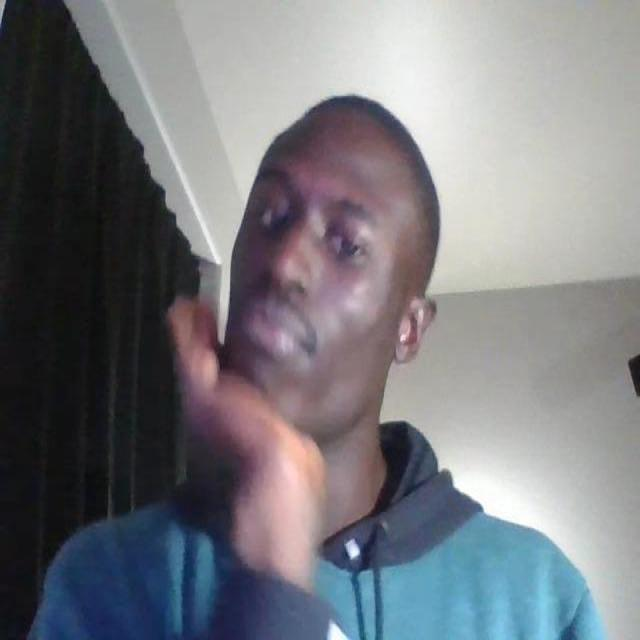no-helmet: (221, 141, 402, 443)
